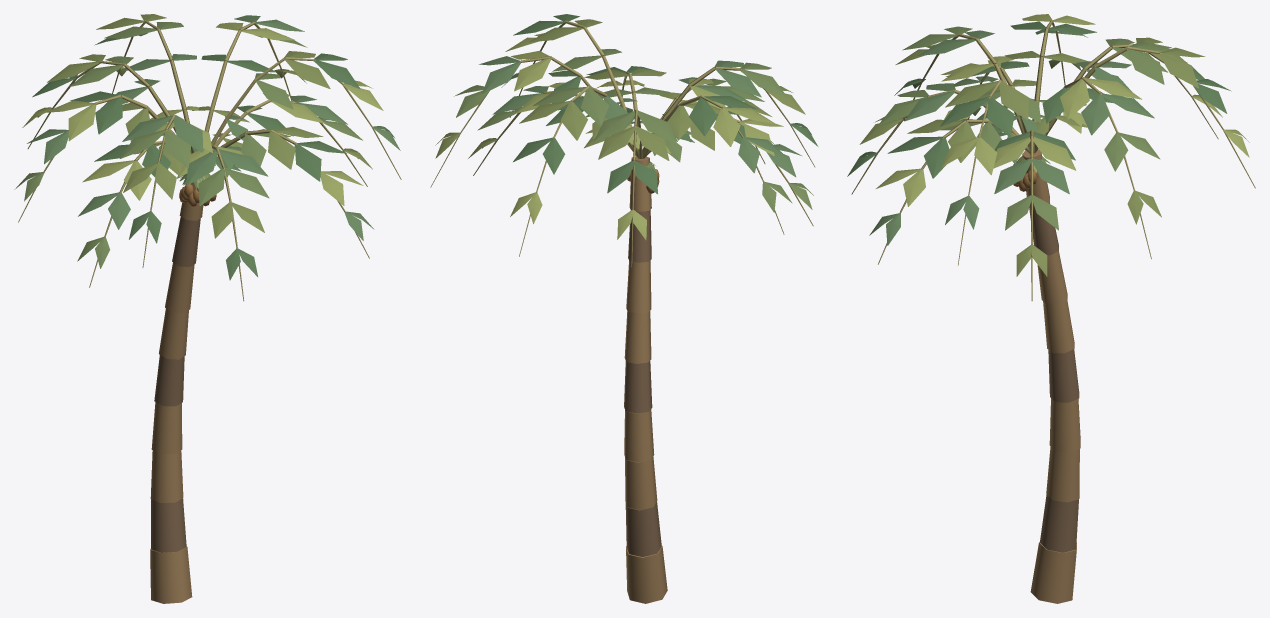
Rendered from date-palm-mid.glb.
The picture shows the model from 3 angles, left to right: view 1: azimuth 30°, elevation 25°; view 2: azimuth 150°, elevation 25°; view 3: azimuth 270°, elevation 25°; orthographic projection. The views are drawn at different scales.
Parts seen in each view (by area): view 1: Crown_Foliage, Trunk_Wood; view 2: Crown_Foliage, Trunk_Wood; view 3: Crown_Foliage, Trunk_Wood.
Part boxes in pixels (x1,y1,x2,y2): Crown_Foliage: (14,14,400,280); Trunk_Wood: (18,20,401,603); Crown_Foliage: (435,14,818,239); Trunk_Wood: (430,20,815,603); Crown_Foliage: (847,14,1249,276); Trunk_Wood: (851,20,1255,603).
Size of the model in its own units: 6.49 by 10 by 6.59.
